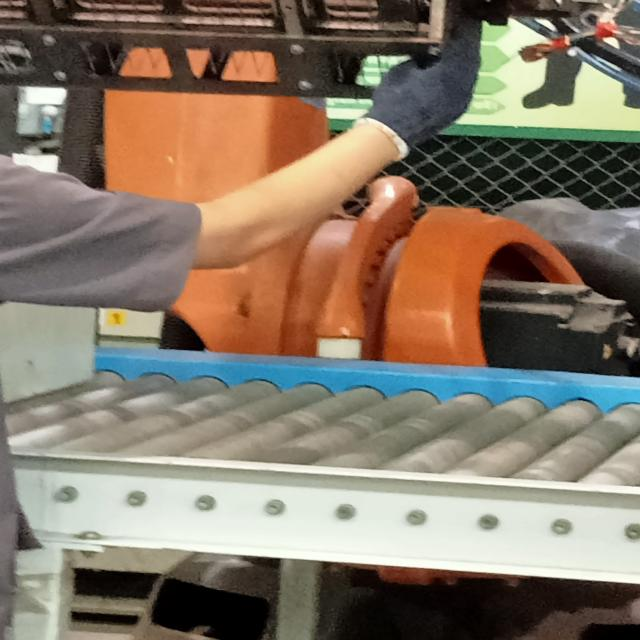Gloves-Detection: (362, 49, 474, 149)
